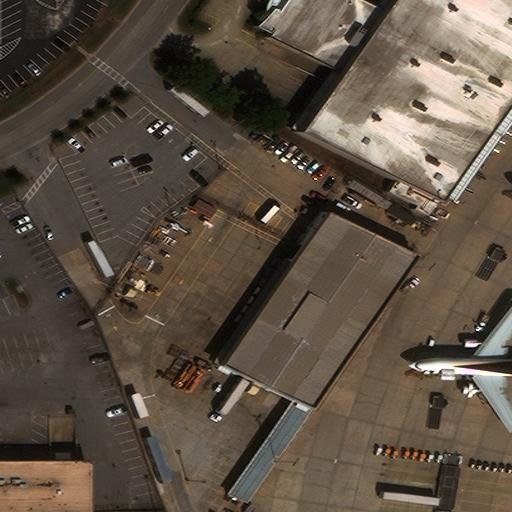Large Civil Transport: (407, 304, 512, 433)
